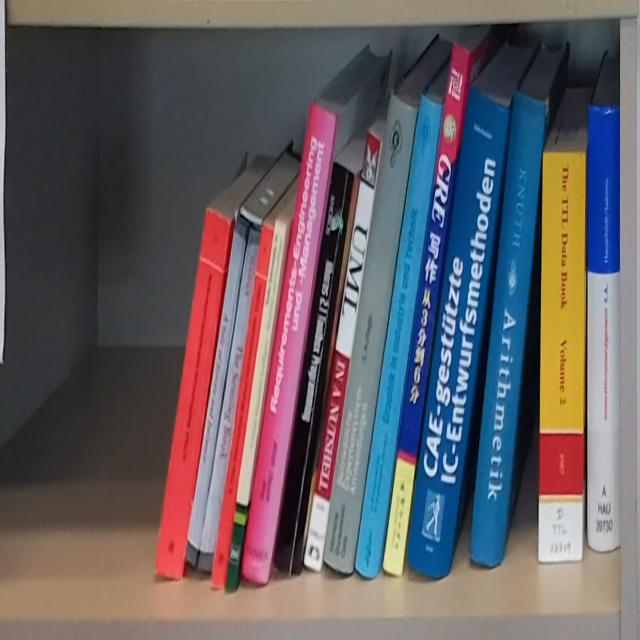Book Spine: (408, 87, 509, 579), (382, 45, 470, 577), (323, 91, 418, 575), (242, 102, 336, 589), (355, 93, 442, 579), (471, 90, 546, 567), (303, 131, 382, 575), (274, 163, 357, 576), (157, 207, 231, 581), (223, 221, 289, 591), (212, 227, 273, 588), (197, 229, 260, 573), (184, 221, 246, 569), (539, 152, 585, 562), (588, 104, 621, 553)
